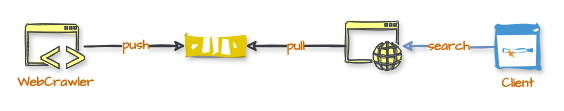
Some shapes in this 564 by 111 pixel diagram are drawn without their labels. The shapes that lost their labels are listed below. From the top down, each one's centre as x and y in pixels, then its label:
At pixel 216 47: "QueueService".
At pixel 374 47: "Server".
